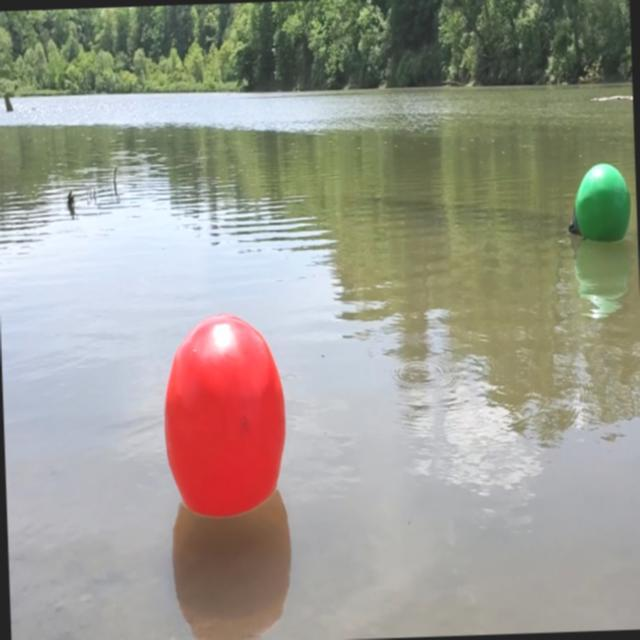buoy: (158, 306, 292, 524), (562, 159, 634, 246)
